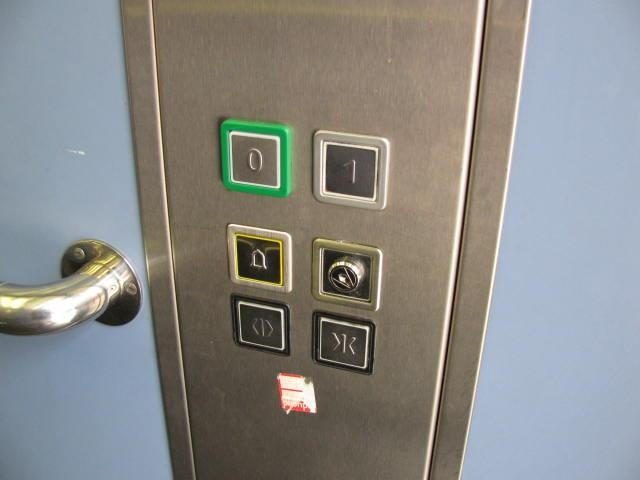0: (219, 119, 291, 198)
1: (312, 129, 389, 210)
alarm: (226, 222, 292, 294)
bt_keyhole: (312, 236, 383, 312)
close: (313, 309, 376, 376)
open: (231, 291, 293, 359)
